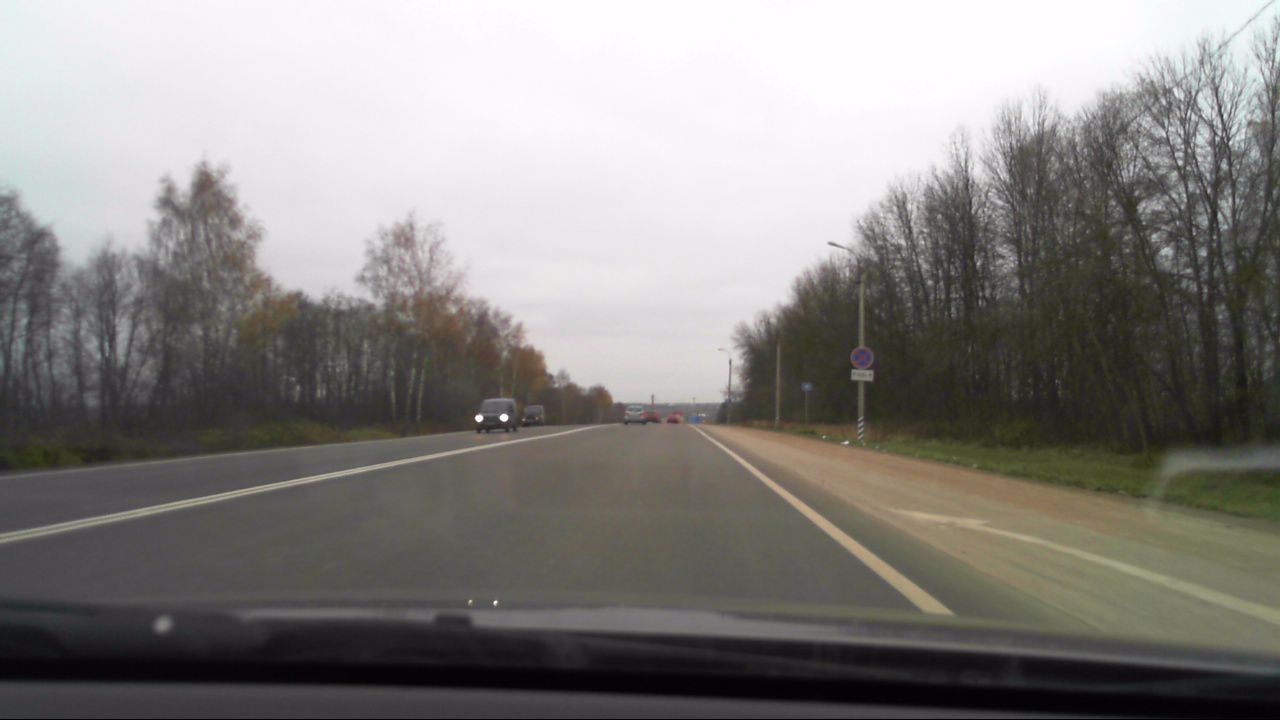No Parking: (848, 344, 875, 369)
